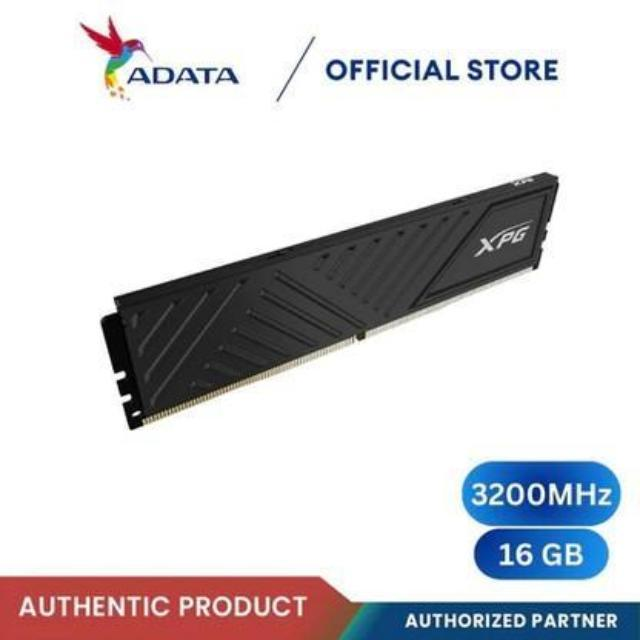RAM: (76, 171, 582, 431)
